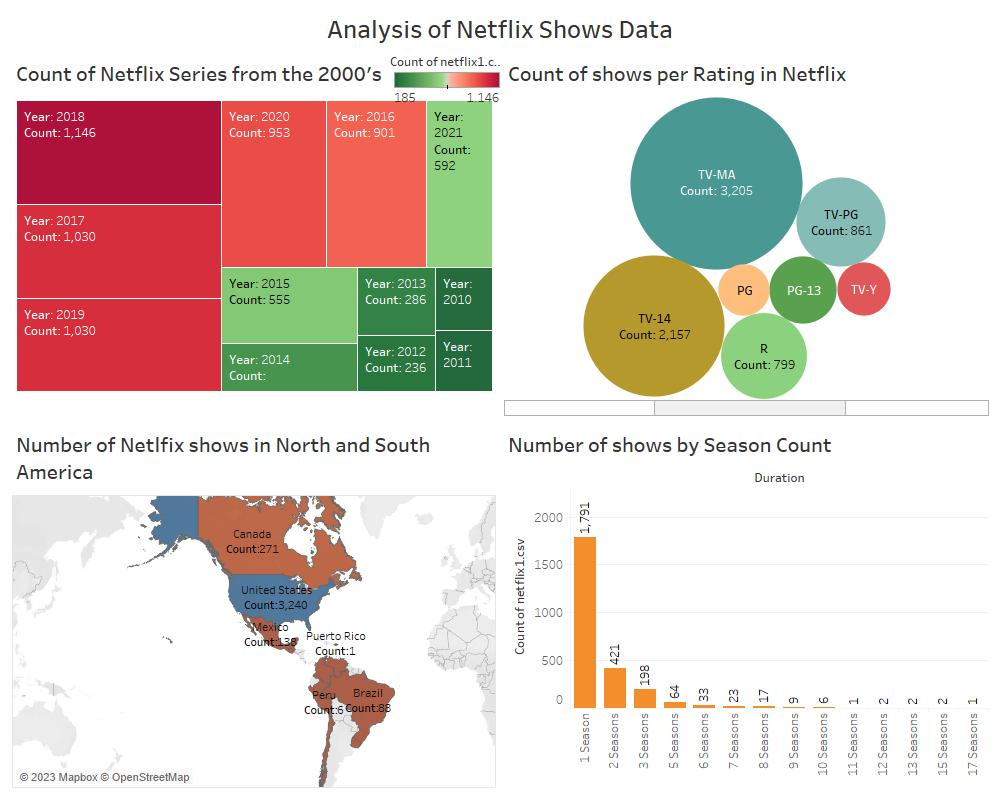

The page's visual inventory and layout, read from the dashboard file:
{"tool":"tableau","page":{"name":"Dashboard 1","canvas":[1000,800],"ordinal":0},"visuals":[{"type":"title","box":[8,8,984,41]},{"type":"worksheet","title":"Treemap","mark":"Automatic","box":[8,49,492,371.5]},{"type":"legend","title":"Treemap","param":"[federated.0dt8vje1tdvinu1dwvec80dx0odu].[__tableau_internal_object_id__].[cnt:n","box":[390,49,114,53]},{"type":"worksheet","title":"Bubble Chart","mark":"Circle","box":[500,49,492,371.5]},{"type":"worksheet","title":"Map","mark":"Automatic","box":[8,420.5,492,371.5]},{"type":"worksheet","title":"Bar Chart","mark":"Automatic","rows":["netflix1.csv_74DBAB5A3801402CBF9045C8DCEC4BCF"],"cols":["duration"],"box":[500,420.5,492,371.5]}]}

Visuals, with their boxes in screenshot pixels (x1, y1, x2, y2), scaled from the page's 1000x800 canvas onto the 1000x800 screenshot:
title: (8,8,992,49)
"Treemap" worksheet: (8,49,500,420)
"Treemap" legend: (390,49,504,102)
"Bubble Chart" worksheet (Circle marks): (500,49,992,420)
"Map" worksheet: (8,420,500,792)
"Bar Chart" worksheet: (500,420,992,792)
